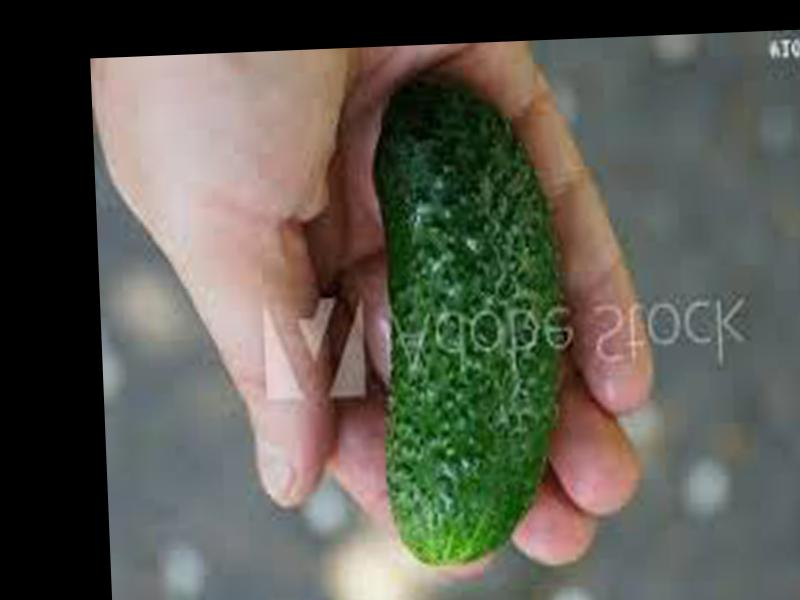Cucumber: (371, 75, 576, 564)
